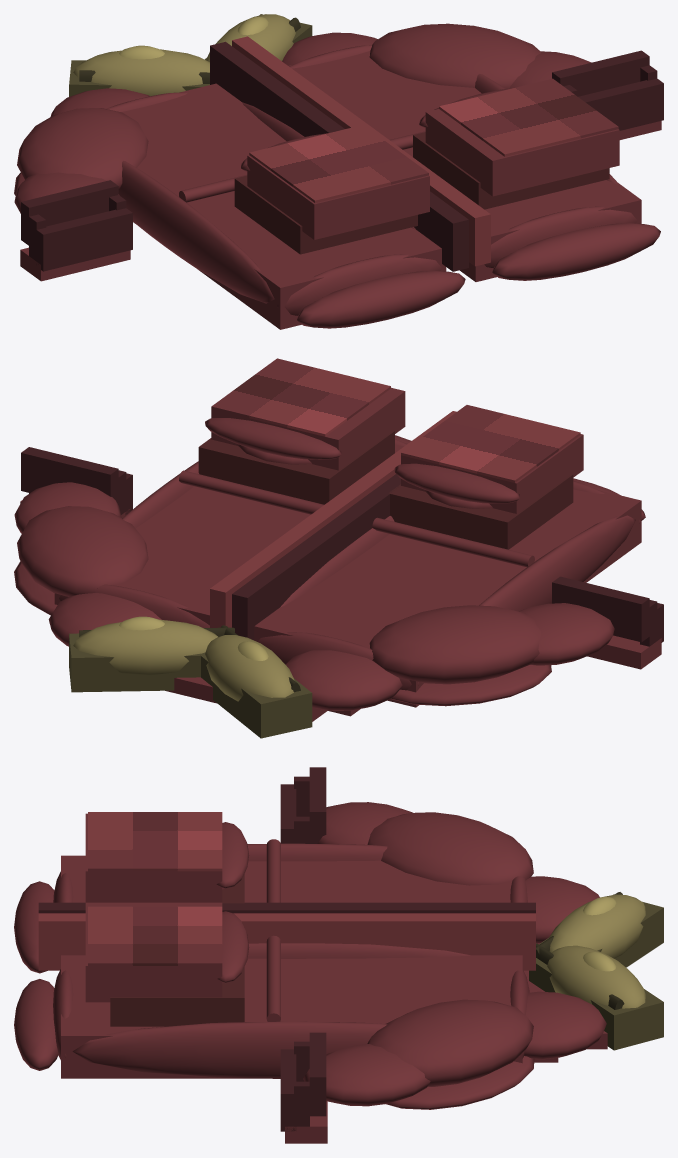
Rendered from CMU3DCivilianJacketRedParkaWorldCloud.glb.
3 views of the same model, one above another, from view 1: azimuth 30°, elevation 25°; view 2: azimuth 150°, elevation 25°; view 3: azimuth 270°, elevation 25° (orthographic). The views are drawn at different scales.
Parts seen in each view (by area): view 1: left long parka front cloth face, right long parka front cloth face, right soft upper sleeve, left original pocket stitching, right original pocket stitching, right woven pocket face, left long parka front side fold left, left narrow front closure, left soft upper sleeve, left woven pocket face, left bottom turn-up, right bottom turn-up (+22 smaller); view 2: left long parka front cloth face, right long parka front cloth face, left soft upper sleeve, right soft upper sleeve, right original pocket stitching, left original pocket stitching, left narrow front closure, right patch pocket folded sides, left patch pocket folded sides, left long parka front side fold left, right continuous low fur collar band, right narrow front closure (+22 smaller); view 3: right long parka front cloth face, right narrow front closure, right long parka front side fold right, right soft upper sleeve, left long parka front cloth face, left soft upper sleeve, left original pocket stitching, right original pocket stitching, right woven pocket face, right outward forearm fold, left woven pocket face, left narrow front closure (+25 smaller).
Boxes of the visible parts, x1=… form: left long parka front cloth face: x1=121, y1=83, x2=446, y2=329; right long parka front cloth face: x1=288, y1=51, x2=641, y2=281; right soft upper sleeve: x1=369, y1=23, x2=540, y2=88; left original pocket stitching: x1=249, y1=125, x2=428, y2=202; right original pocket stitching: x1=439, y1=78, x2=618, y2=156; right woven pocket face: x1=425, y1=109, x2=619, y2=196; left long parka front side fold left: x1=118, y1=160, x2=274, y2=303; left narrow front closure: x1=210, y1=41, x2=468, y2=271; left soft upper sleeve: x1=17, y1=108, x2=148, y2=190; left woven pocket face: x1=247, y1=155, x2=429, y2=239; left bottom turn-up: x1=297, y1=270, x2=465, y2=328; right bottom turn-up: x1=492, y1=223, x2=660, y2=280; left long parka front cloth face: x1=254, y1=489, x2=641, y2=707; right long parka front cloth face: x1=54, y1=442, x2=407, y2=625; left soft upper sleeve: x1=369, y1=605, x2=540, y2=684; right soft upper sleeve: x1=17, y1=506, x2=148, y2=596; right original pocket stitching: x1=211, y1=358, x2=390, y2=436; left original pocket stitching: x1=401, y1=405, x2=580, y2=482; left narrow front closure: x1=232, y1=474, x2=400, y2=640; right patch pocket folded sides: x1=198, y1=430, x2=394, y2=504; left patch pocket folded sides: x1=389, y1=474, x2=573, y2=549; left long parka front side fold left: x1=479, y1=515, x2=635, y2=611; right continuous low fur collar band: x1=73, y1=619, x2=217, y2=675; right narrow front closure: x1=210, y1=411, x2=456, y2=627; right long parka front cloth face: x1=61, y1=955, x2=522, y2=1078; right narrow front closure: x1=38, y1=913, x2=535, y2=970; right long parka front side fold right: x1=72, y1=1021, x2=387, y2=1078; right soft upper sleeve: x1=367, y1=999, x2=533, y2=1086; left long parka front cloth face: x1=61, y1=855, x2=522, y2=902; left soft upper sleeve: x1=367, y1=812, x2=533, y2=885; left original pocket stitching: x1=88, y1=812, x2=222, y2=871; right original pocket stitching: x1=88, y1=906, x2=222, y2=965; right woven pocket face: x1=85, y1=902, x2=222, y2=1002; right outward forearm fold: x1=303, y1=1043, x2=430, y2=1106; left woven pocket face: x1=85, y1=813, x2=222, y2=902; left narrow front closure: x1=38, y1=902, x2=535, y2=913.
Bounding box in the file's own units: 0.5112 × 0.091 × 0.4534.
Materials: 10 (2 with a texture image).
